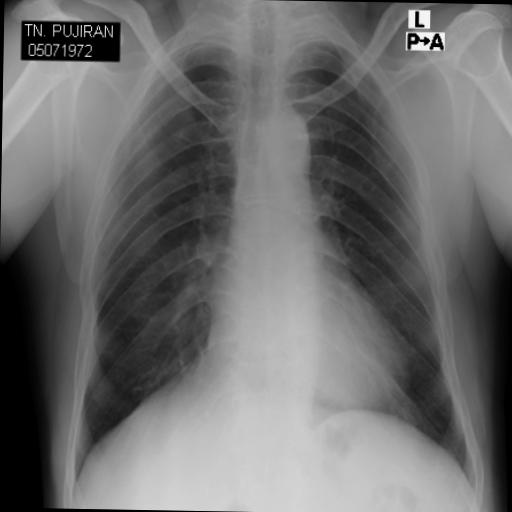kardiomegali: (194, 236, 422, 437)
